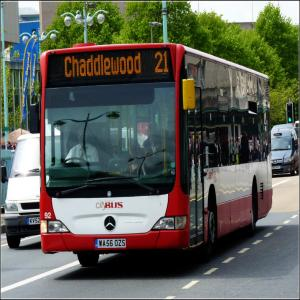Vehicle-registration-plate: (96, 240, 127, 249), (27, 217, 41, 227), (273, 167, 282, 172)
